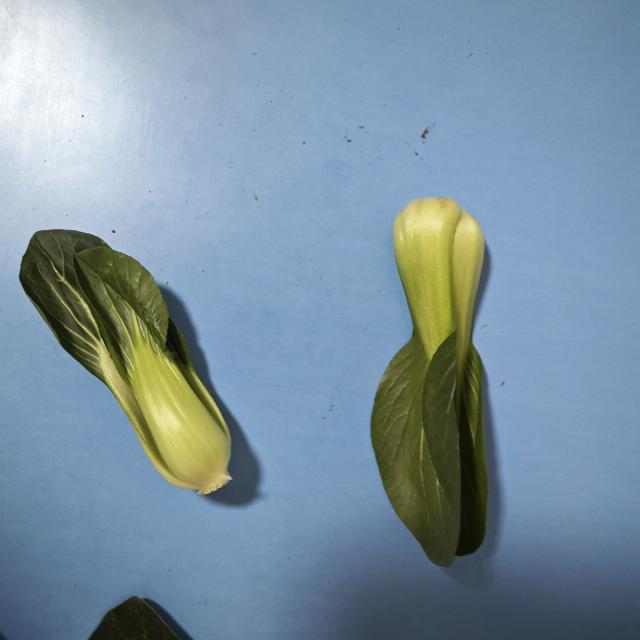-Kitchen waste - vegetable roots and leaves-: (20, 225, 235, 498), (368, 197, 492, 569)
